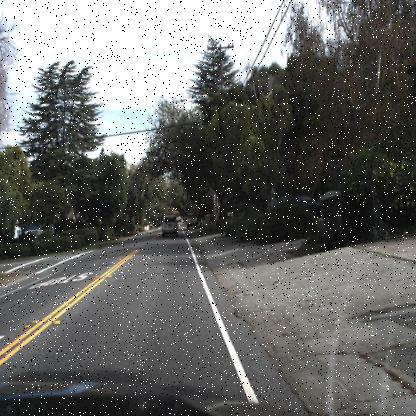car: (161, 212, 180, 236), (185, 212, 199, 231)
